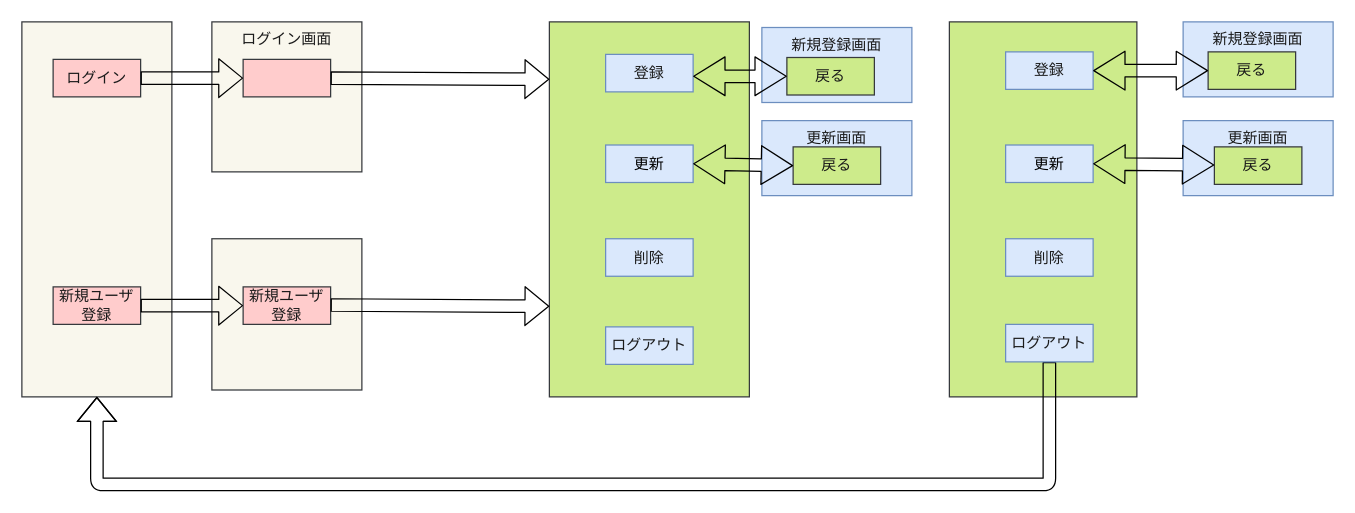
Some shapes in this 1355 by 513 pixel diagram are drawn without their labels. Here are the shapes that lost their labels. From the top down, the box of each, then its label:
(242, 58, 331, 97): 編集
(21, 21, 172, 397): ログインページ
(548, 21, 749, 397): プロジェクト一覧画面
(948, 21, 1137, 397): タスク一覧画面
(211, 238, 362, 390): 新規ユーザ登録画面
